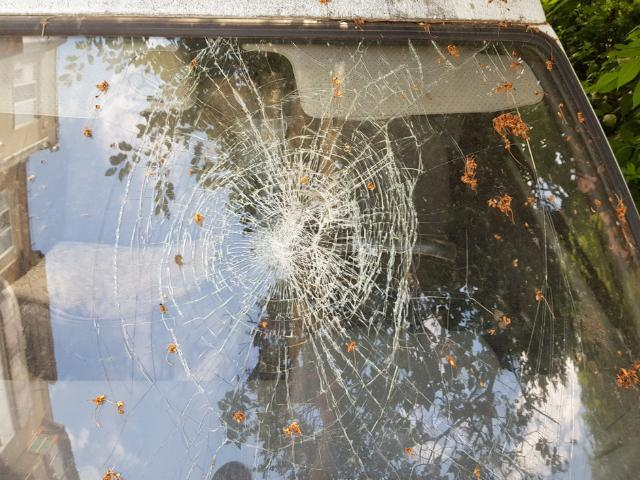Windshield: (0, 21, 640, 480)
